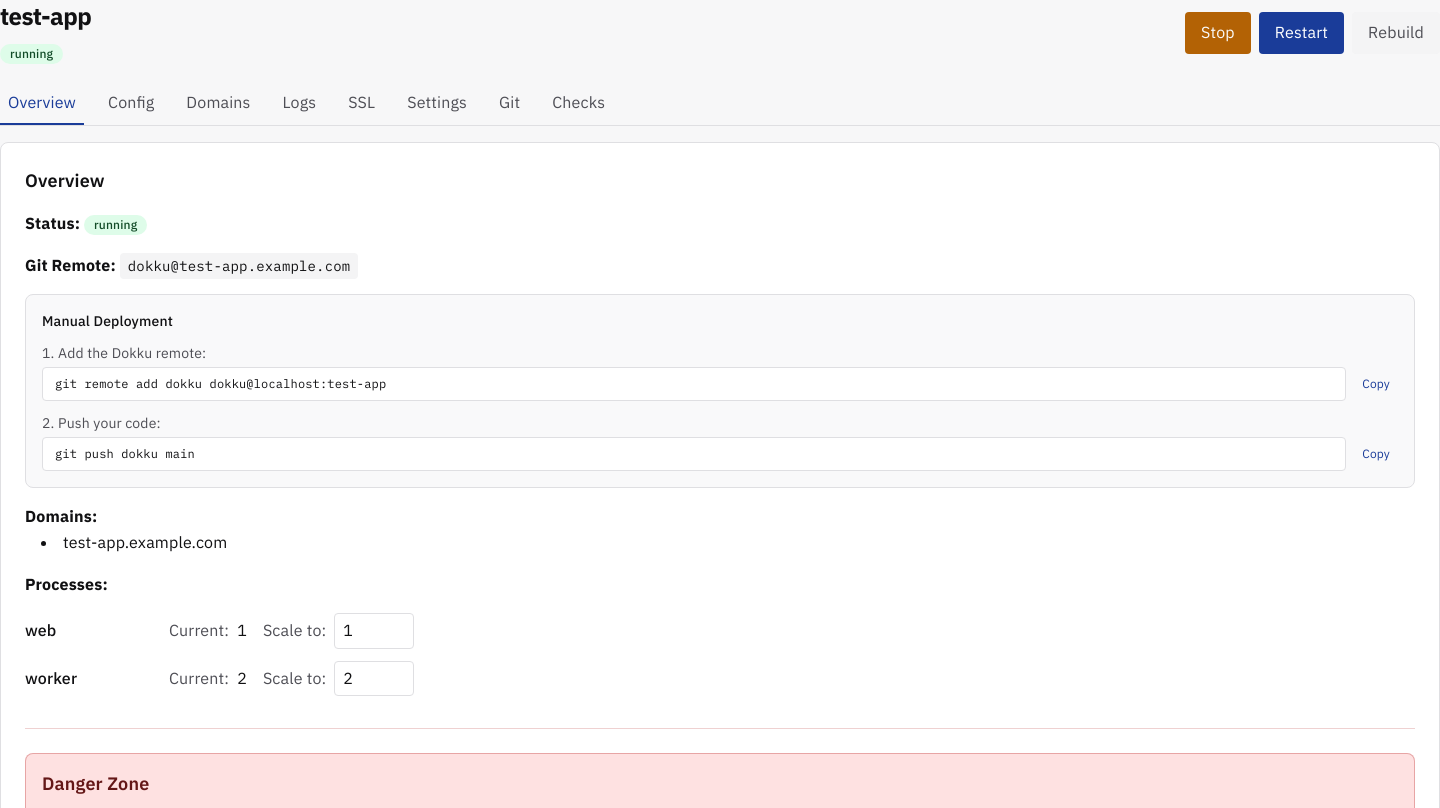
Test: AppDetail › should open confirm dialog when restart is clicked
This screenshot has width=1440, height=808.
Click the button "Restart".
click(1301, 33)  # box x1=1259 y1=12 x2=1344 y2=54
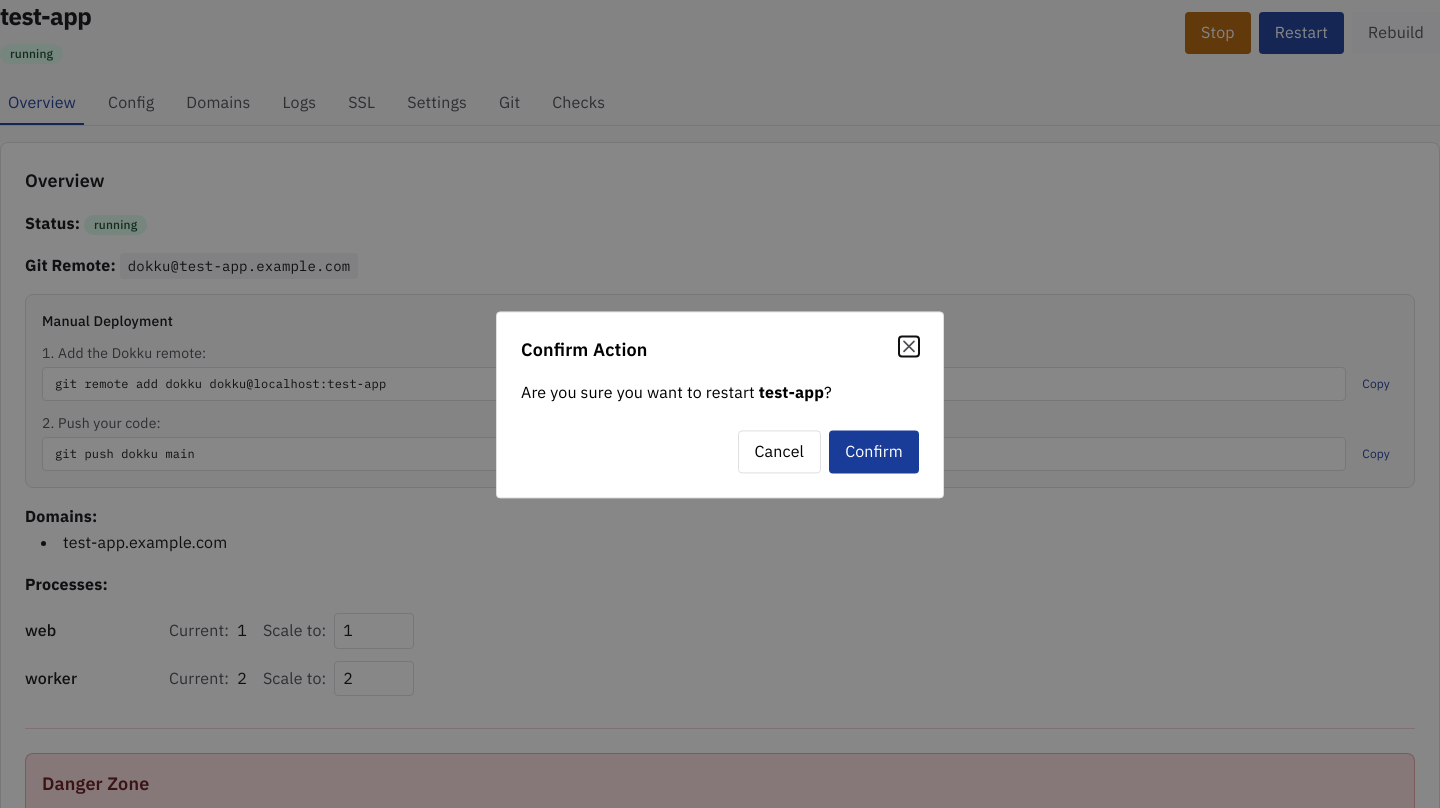
Check: the heading "Confirm Action" is shown, box x1=521 y1=336 x2=648 y2=364
Check: the text "Confirm Action" shows "Are you sure you want to restart test-app?", box x1=496 y1=311 x2=944 y2=499
